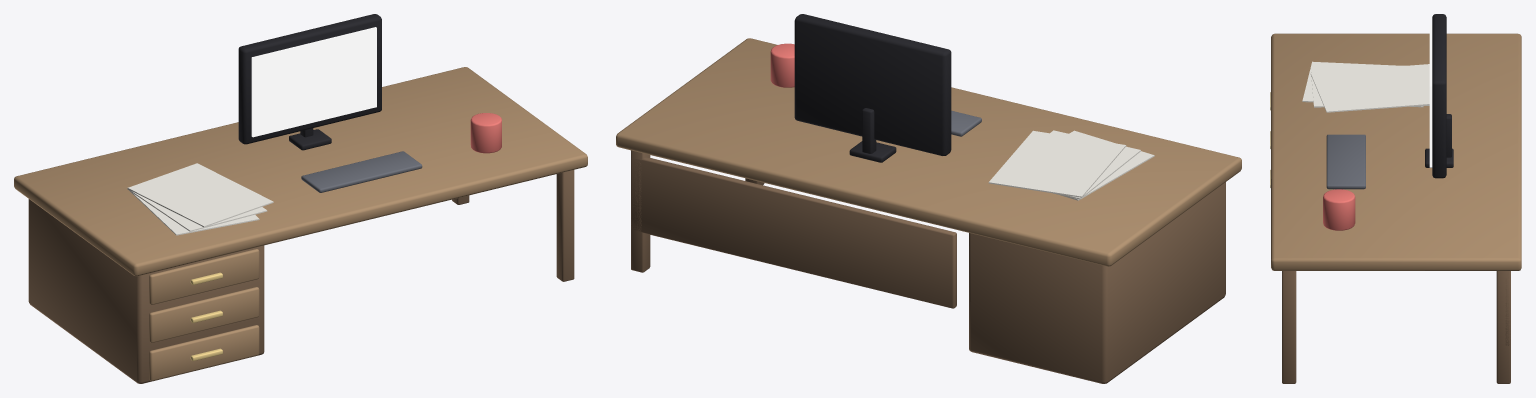
File: desk.glb
3 views of the same model, side by side, from view 1: azimuth 30°, elevation 25°; view 2: azimuth 150°, elevation 25°; view 3: azimuth 270°, elevation 25° (orthographic). The views are drawn at different scales.
Visible parts, largest first — view 1: Cube, Cube.001, Cube.014, Cube.018, Cube.013, Cube.004, Cube.002, Cube.006, Cube.015, Cube.008, Cone, Cube.017 (+2 smaller); view 2: Cube, Cube.001, Cube.010, Cube.013, Cube.018, Cube.009, Cone, Cube.017, Cube.016, Cube.012, Cube.011, Cube.015; view 3: Cube, Cube.018, Cube.013, Cube.015, Cube.008, Cube.009, Cone, Cube.014, Cube.016, Cube.017, Cube.010, Cube.012.
Part boxes in pixels (x1,y1,x2,y2): Cube: [14, 67, 587, 276]; Cube.001: [28, 199, 264, 383]; Cube.014: [251, 27, 376, 137]; Cube.018: [127, 163, 273, 227]; Cube.013: [238, 14, 381, 144]; Cube.004: [149, 287, 259, 342]; Cube.002: [149, 325, 259, 380]; Cube.006: [149, 249, 259, 304]; Cube.015: [301, 151, 422, 192]; Cube.008: [556, 170, 574, 281]; Cone: [470, 113, 501, 153]; Cube.017: [127, 188, 267, 231]; Cube: [616, 38, 1241, 266]; Cube.001: [969, 182, 1225, 383]; Cube.010: [631, 157, 956, 308]; Cube.013: [794, 14, 951, 155]; Cube.018: [988, 130, 1126, 197]; Cube.009: [631, 150, 650, 272]; Cone: [770, 43, 794, 87]; Cube.017: [1050, 130, 1140, 199]; Cube.016: [1061, 130, 1154, 200]; Cube.012: [862, 108, 876, 153]; Cube.011: [849, 141, 896, 162]; Cube.015: [951, 110, 981, 136]; Cube: [1271, 33, 1521, 270]; Cube.018: [1310, 64, 1429, 112]; Cube.013: [1432, 14, 1446, 178]; Cube.015: [1326, 134, 1365, 189]; Cube.008: [1282, 271, 1296, 383]; Cube.009: [1496, 271, 1510, 383]; Cone: [1323, 189, 1355, 230]; Cube.014: [1429, 24, 1432, 167]; Cube.016: [1302, 61, 1423, 107]; Cube.017: [1310, 65, 1429, 107]; Cube.010: [1505, 278, 1510, 345]; Cube.012: [1446, 114, 1451, 157].
Size of the model in its own units: 150 by 75 by 70.25.
